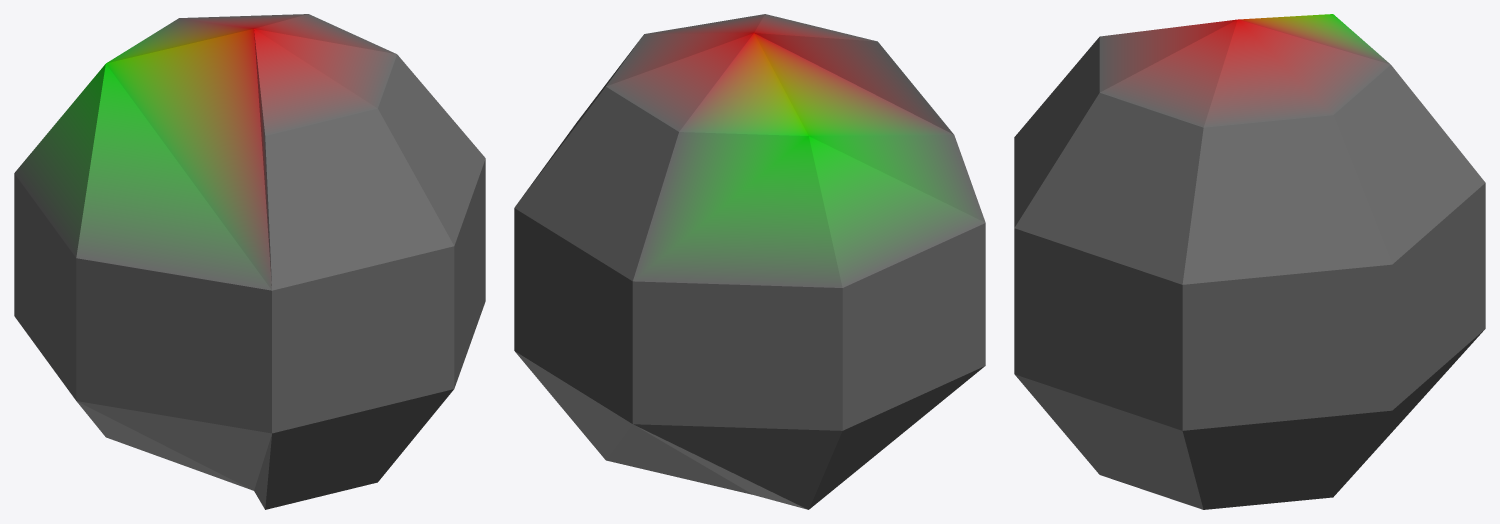
The model's file is re_decimating_conquest_10_before.obj.
The picture shows the model from 3 angles, left to right: view 1: azimuth 30°, elevation 25°; view 2: azimuth 150°, elevation 25°; view 3: azimuth 270°, elevation 25°; orthographic projection. The views are drawn at different scales.
Bounding box in the file's own units: 1.85 × 2 × 1.81.
